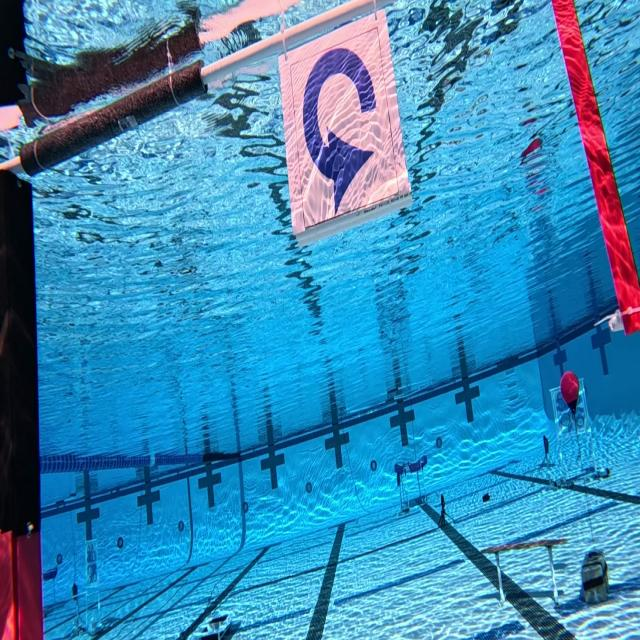blue_side: (278, 48, 409, 212)
